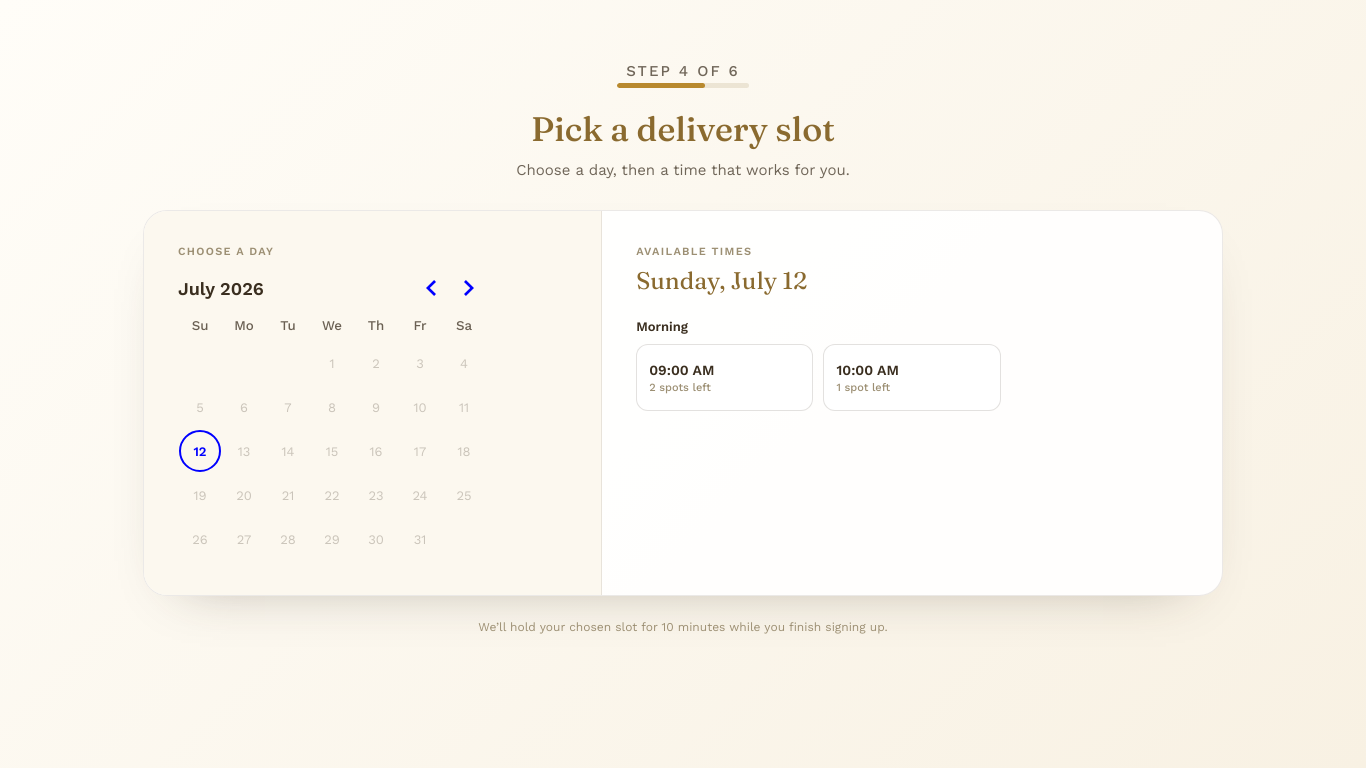
Slot › shows a message and refreshes when the slot was just taken
This screenshot has width=1366, height=768.
Click the button "09:00 AM 2 spots left" at {"x": 725, "y": 378}, box [636,344,813,411]
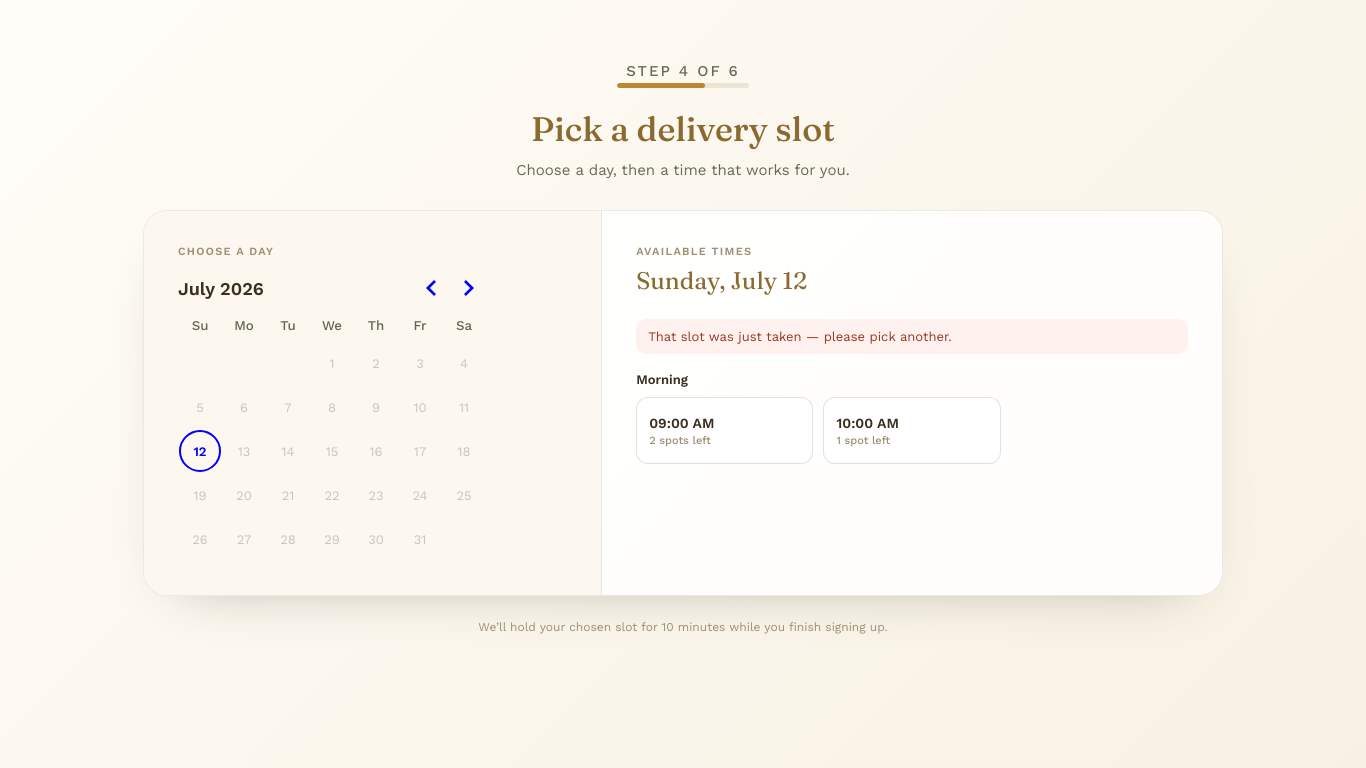
Result: the text "That slot was just taken — please pick another." is shown at [636,319,1188,354]
